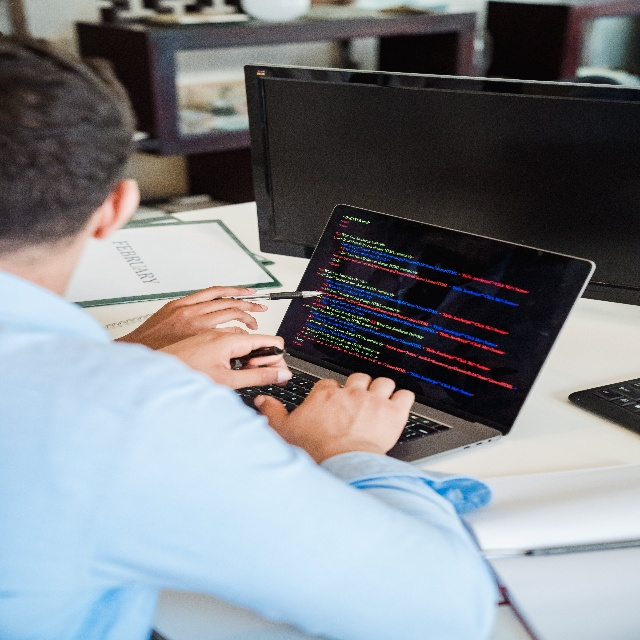Sin_guantes: (253, 372, 416, 465), (122, 285, 269, 350), (158, 337, 292, 389)
